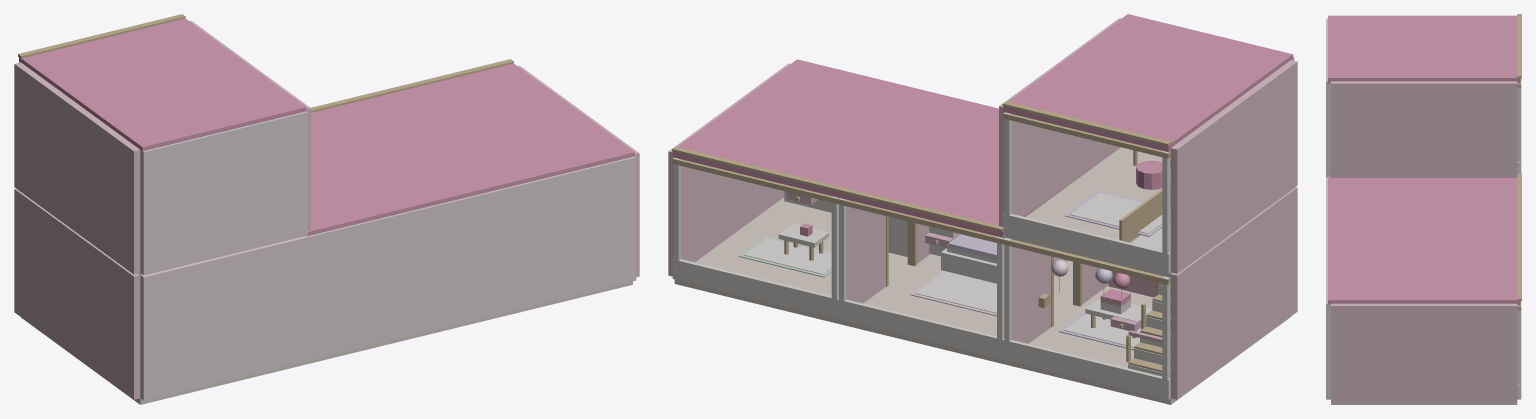
Rendered from house-vip.glb.
3 renders of one model, left to right at view 1: azimuth 30°, elevation 25°; view 2: azimuth 150°, elevation 25°; view 3: azimuth 270°, elevation 25°, orthographic. The views are drawn at different scales.
Visible parts, largest first — view 1: WALL_BACK_01, WALL_BACK_UPPER_01, ROOF_TRIM_01, WALL_BACK_02, WALL_BACK_03, ROOF_TRIM_03, WALL_LEFT_UPPER, WALL_LEFT_GROUND, ROOF_TRIM_02, ROOF_GOLD_LINE_01, ROOF_GOLD_LINE_03, FLOOR_01 (+4 smaller); view 2: ROOF_TRIM_01, ROOF_TRIM_03, WALL_LEFT_UPPER, WALL_LEFT_GROUND, ROOF_TRIM_02, WALL_RIGHT_GROUND, WALL_RIGHT_UPPER, FLOOR_03, FLOOR_02, FLOOR_UPPER_RIGHT, FLOOR_01, FRONT_SILL_01 (+34 smaller); view 3: WALL_RIGHT_GROUND, WALL_RIGHT_UPPER, ROOF_TRIM_01, ROOF_TRIM_03, ROOF_TRIM_02, WALL_BACK_03, WALL_BACK_UPPER_01, FLOOR_03, FRONT_COLUMN_03_1, FRONT_COLUMN_UPPER_01_1, ROOF_GOLD_LINE_03, ROOF_GOLD_LINE_01 (+1 smaller).
Part boxes in pixels (left/top/right/bottom): WALL_BACK_01: left=140, top=236, right=307, bottom=400; WALL_BACK_UPPER_01: left=140, top=111, right=307, bottom=275; ROOF_TRIM_01: left=19, top=18, right=306, bottom=152; WALL_BACK_02: left=307, top=196, right=472, bottom=360; WALL_BACK_03: left=471, top=156, right=636, bottom=320; ROOF_TRIM_03: left=350, top=63, right=634, bottom=196; WALL_LEFT_UPPER: left=14, top=62, right=140, bottom=274; WALL_LEFT_GROUND: left=14, top=188, right=140, bottom=399; ROOF_TRIM_02: left=306, top=103, right=470, bottom=236; ROOF_GOLD_LINE_01: left=18, top=14, right=185, bottom=58; ROOF_GOLD_LINE_03: left=347, top=59, right=513, bottom=103; FLOOR_01: left=21, top=317, right=304, bottom=404; ROOF_TRIM_01: left=1003, top=14, right=1293, bottom=152; ROOF_TRIM_03: left=672, top=59, right=961, bottom=197; WALL_LEFT_UPPER: left=1170, top=60, right=1297, bottom=273; WALL_LEFT_GROUND: left=1170, top=187, right=1297, bottom=399; ROOF_TRIM_02: left=838, top=99, right=1092, bottom=237; WALL_RIGHT_GROUND: left=668, top=63, right=790, bottom=276; WALL_RIGHT_UPPER: left=999, top=18, right=1120, bottom=226; FLOOR_03: left=674, top=197, right=910, bottom=323; FLOOR_02: left=840, top=254, right=1076, bottom=364; FLOOR_UPPER_RIGHT: left=1005, top=147, right=1170, bottom=249; FLOOR_01: left=1005, top=285, right=1291, bottom=404; FRONT_SILL_01: left=1003, top=339, right=1170, bottom=399; WALL_RIGHT_GROUND: left=1331, top=303, right=1517, bottom=402; WALL_RIGHT_UPPER: left=1331, top=81, right=1517, bottom=177; ROOF_TRIM_01: left=1328, top=15, right=1520, bottom=83; ROOF_TRIM_03: left=1328, top=238, right=1520, bottom=305; ROOF_TRIM_02: left=1328, top=175, right=1516, bottom=237; WALL_BACK_03: left=1326, top=241, right=1330, bottom=399; WALL_BACK_UPPER_01: left=1326, top=18, right=1330, bottom=177; FLOOR_03: left=1331, top=402, right=1517, bottom=404; FRONT_COLUMN_03_1: left=1517, top=304, right=1521, bottom=398; FRONT_COLUMN_UPPER_01_1: left=1517, top=82, right=1521, bottom=173; ROOF_GOLD_LINE_03: left=1517, top=236, right=1521, bottom=300; ROOF_GOLD_LINE_01: left=1517, top=14, right=1521, bottom=78.
Size of the model in its own units: 14.16 by 7 by 6.1.
